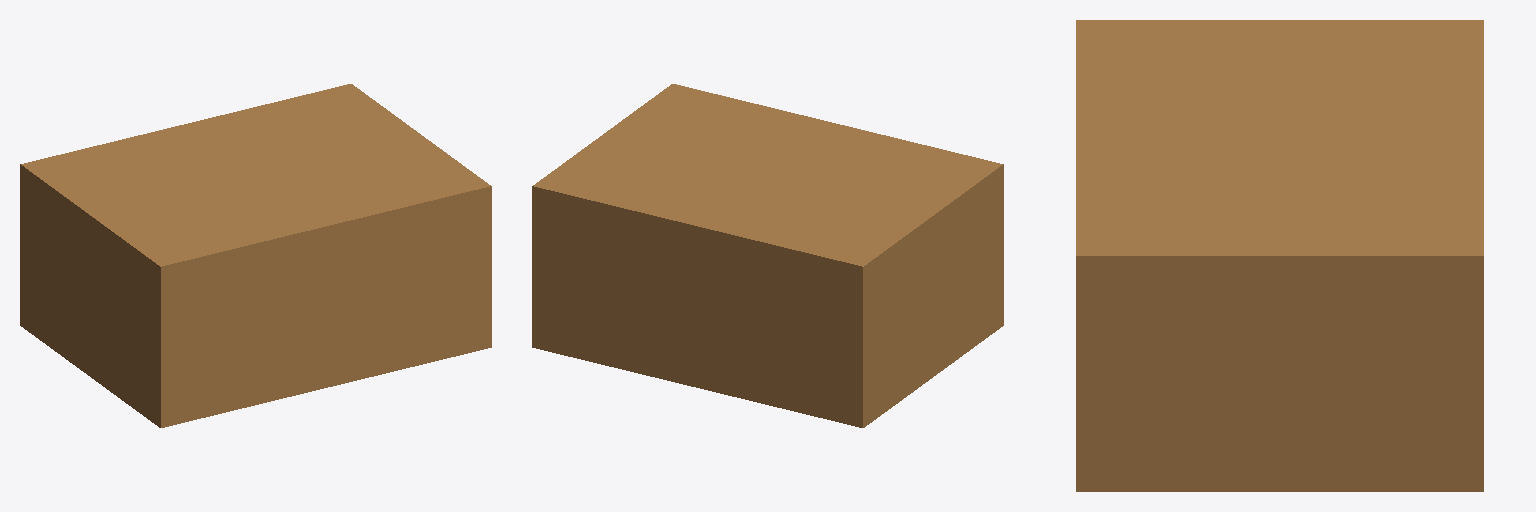
URDF robot description (cb_boxflip_big_m150_cm20):
<?xml version="1.0"?>
<!-- A29 box flip. Generated by FoundationTouch tools/contactbench/boxflip_tasks.py -->
<robot name="cb_boxflip_big_m150_cm20">
  <material name="c"><color rgba="0.72 0.55 0.35 1.0"/></material>
  <link name="object">
    <visual><origin xyz="0 0 0" rpy="0 0 0"/><geometry><box size="0.15 0.11 0.07"/></geometry><material name="c"/></visual>
    <collision><origin xyz="0 0 0" rpy="0 0 0"/><geometry><box size="0.15 0.11 0.07"/></geometry></collision>
    <inertial><mass value="0.150000"/><origin xyz="-0.0200 0 0" rpy="0 0 0"/><inertia ixx="2.125000e-04" ixy="0" ixz="0" iyy="3.425000e-04" iyz="0" izz="4.325000e-04"/></inertial>
  </link>
</robot>

--- Render facts (derived) ---
The picture shows the robot from 3 angles, left to right: view 1: azimuth 30°, elevation 25°; view 2: azimuth 150°, elevation 25°; view 3: azimuth 270°, elevation 25°; orthographic projection.
Model cb_boxflip_big_m150_cm20 with 1 links and 0 joints (none), rooted at object, posed every joint at zero.
Visible links, largest first — view 1: object; view 2: object; view 3: object.
Boxes of the visible links, <box> form: object: <box>20,84,491,427</box>; object: <box>532,84,1003,427</box>; object: <box>1076,20,1483,491</box>.
Bounding box of the posed robot: 0.15 × 0.11 × 0.07 m (x, y, z).
Geometry: primitives only (box / cylinder / sphere), no mesh files.
